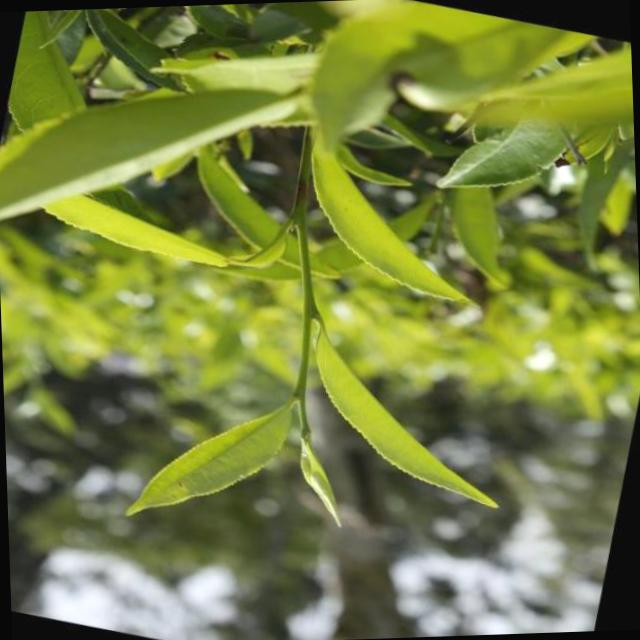Stem: (303, 303, 315, 318)
